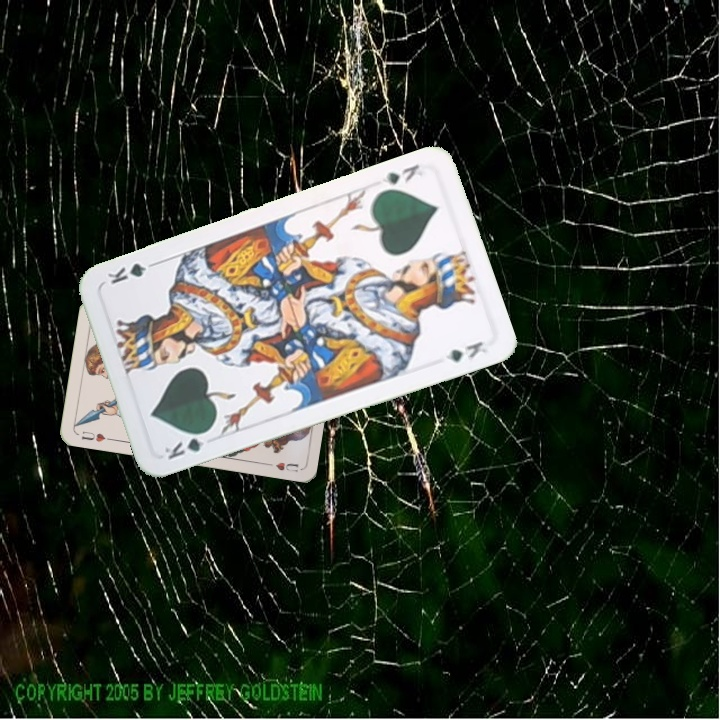GK: (160, 426, 214, 462), (378, 160, 426, 188)
HU: (77, 427, 115, 444)
